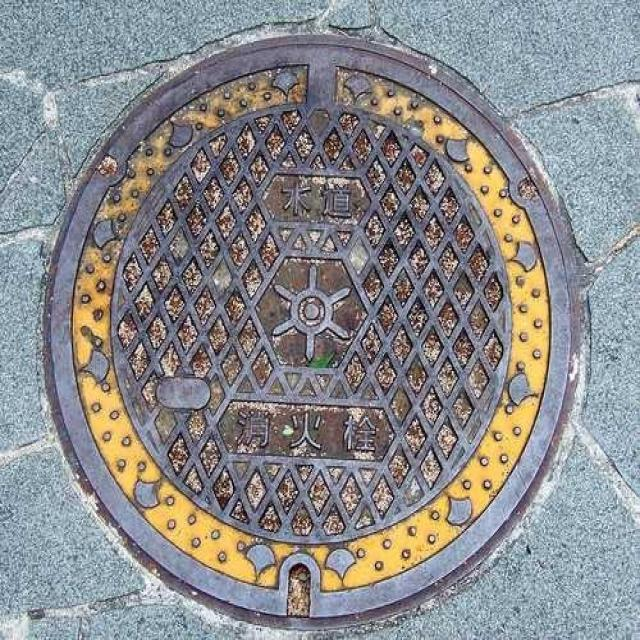manhole: (45, 34, 580, 627)
